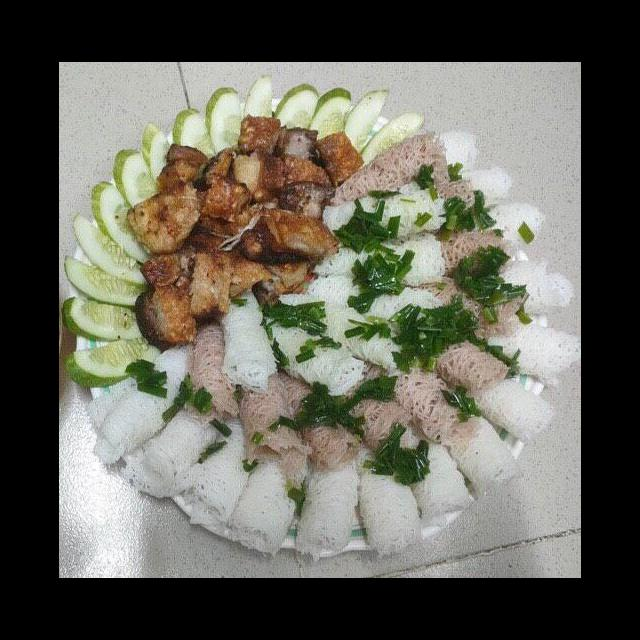banh hoi: (82, 338, 199, 470), (351, 348, 484, 452), (220, 420, 315, 561), (275, 286, 421, 376), (257, 354, 366, 474), (117, 394, 227, 502), (174, 410, 262, 533), (327, 127, 454, 210), (259, 306, 370, 400), (390, 416, 480, 531), (349, 439, 425, 561), (317, 177, 451, 244), (324, 370, 418, 464), (405, 317, 514, 398), (234, 381, 312, 494), (438, 404, 526, 504), (475, 310, 581, 393), (305, 227, 448, 288), (302, 272, 444, 333), (291, 449, 362, 565), (456, 369, 558, 449), (414, 273, 531, 341), (214, 283, 282, 399), (177, 317, 243, 425), (487, 252, 576, 322), (422, 216, 514, 281), (475, 196, 547, 270), (404, 168, 483, 231), (455, 159, 517, 220), (428, 126, 485, 184)
banh hoi heo quay: (83, 100, 577, 556)
thit heo quay: (123, 137, 285, 260), (131, 239, 236, 351), (270, 122, 337, 227), (233, 203, 340, 267), (222, 252, 315, 304), (312, 128, 366, 192), (235, 108, 284, 160)
